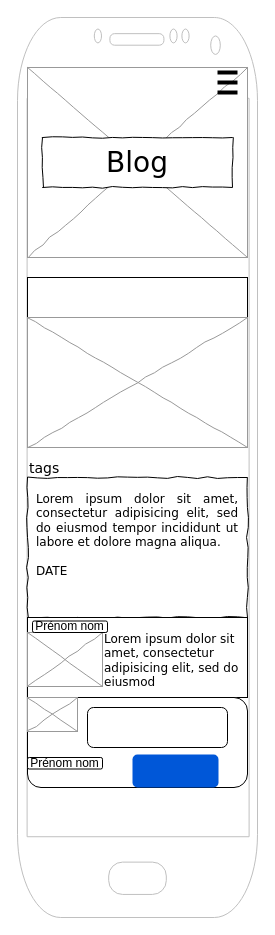
Image size: 275x935. Some labels were removed from this diagram. The centre of each missing label's shape, as x and y in pixels:
Envoyer: the point at 175,770
Prénom Nom utilisateur Titre Article: the point at 137,297
